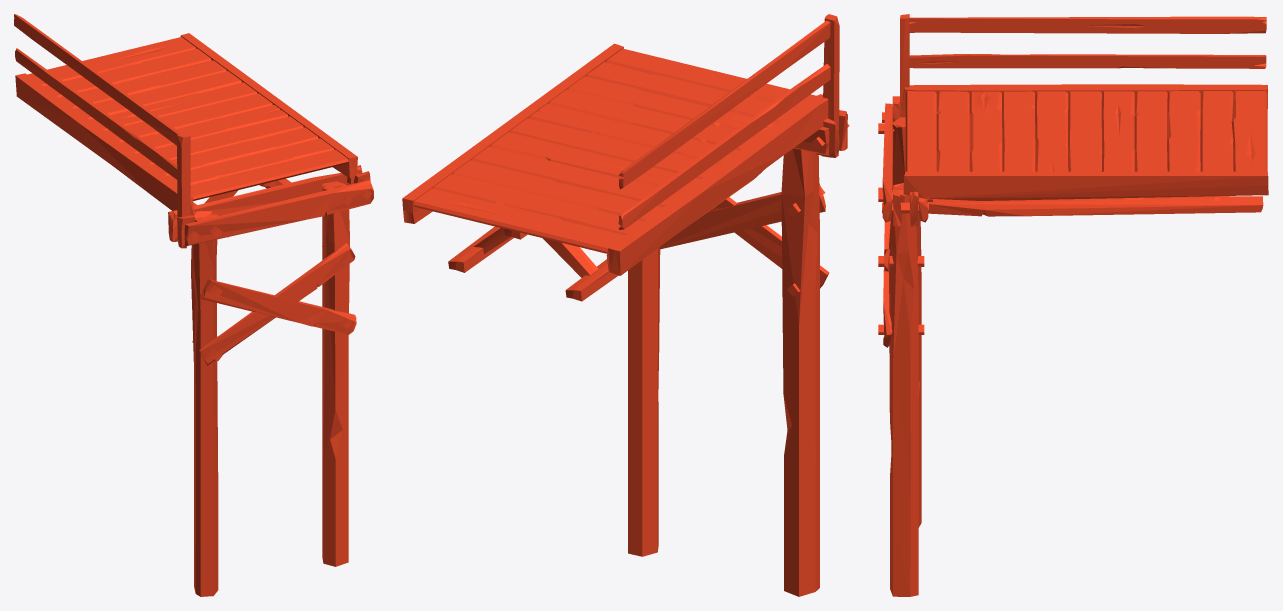
Rendered from SM_Pier_Long_Railing_B_City.fbx.
3 renders of one model, left to right at view 1: azimuth 30°, elevation 25°; view 2: azimuth 150°, elevation 25°; view 3: azimuth 270°, elevation 25°, orthographic. The views are drawn at different scales.
Parts seen in each view (by area): view 1: SM_Pier_Long_Railing_B_City; view 2: SM_Pier_Long_Railing_B_City; view 3: SM_Pier_Long_Railing_B_City.
Part boxes in pixels (left/top/right/bottom): SM_Pier_Long_Railing_B_City: left=14, top=14, right=373, bottom=596; SM_Pier_Long_Railing_B_City: left=402, top=14, right=849, bottom=596; SM_Pier_Long_Railing_B_City: left=878, top=14, right=1268, bottom=596.
Size of the model in its own units: 3.31 by 7.57 by 5.39.
